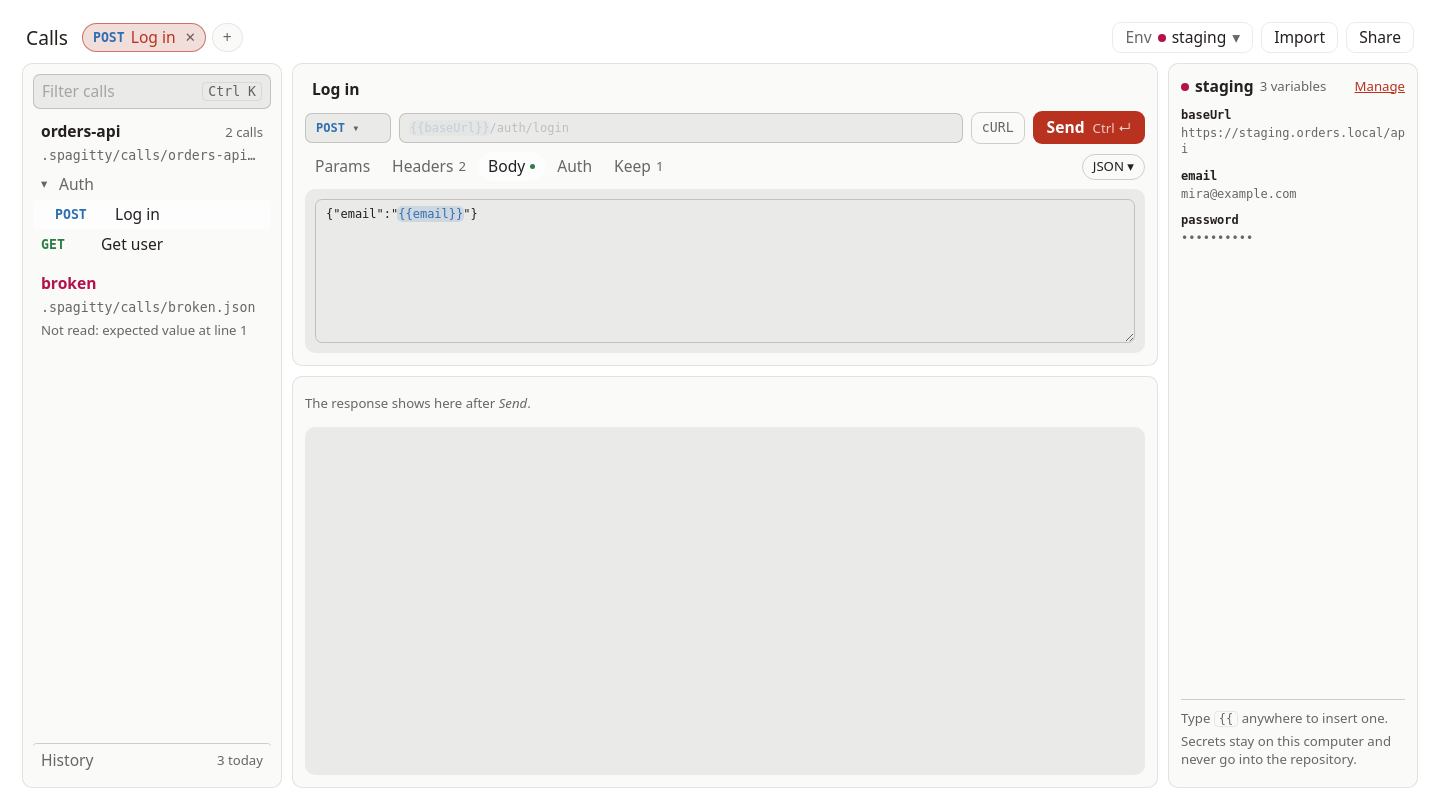
Calls › asks before sending in an environment that says to
The width and height of the screenshot is (1440, 810).
Step 1. Click the button "Send Ctrl ↵" → [1089, 128], box left=1033, top=111, right=1145, bottom=144
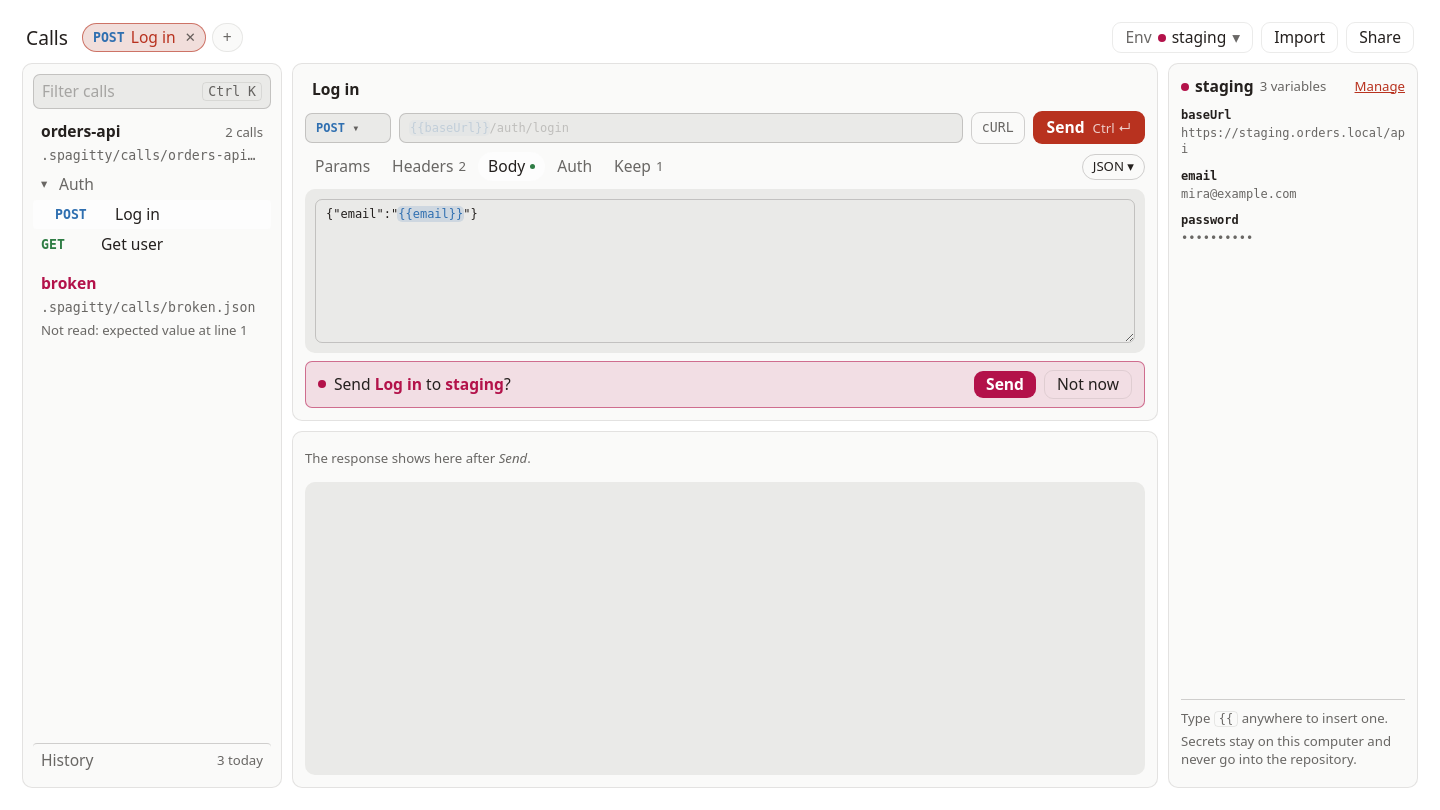
expect the dialog shows "Send Log in to staging?": met, box left=305, top=361, right=1145, bottom=408
Step 2. Click the button "Send" → [1005, 384], box left=974, top=371, right=1036, bottom=398
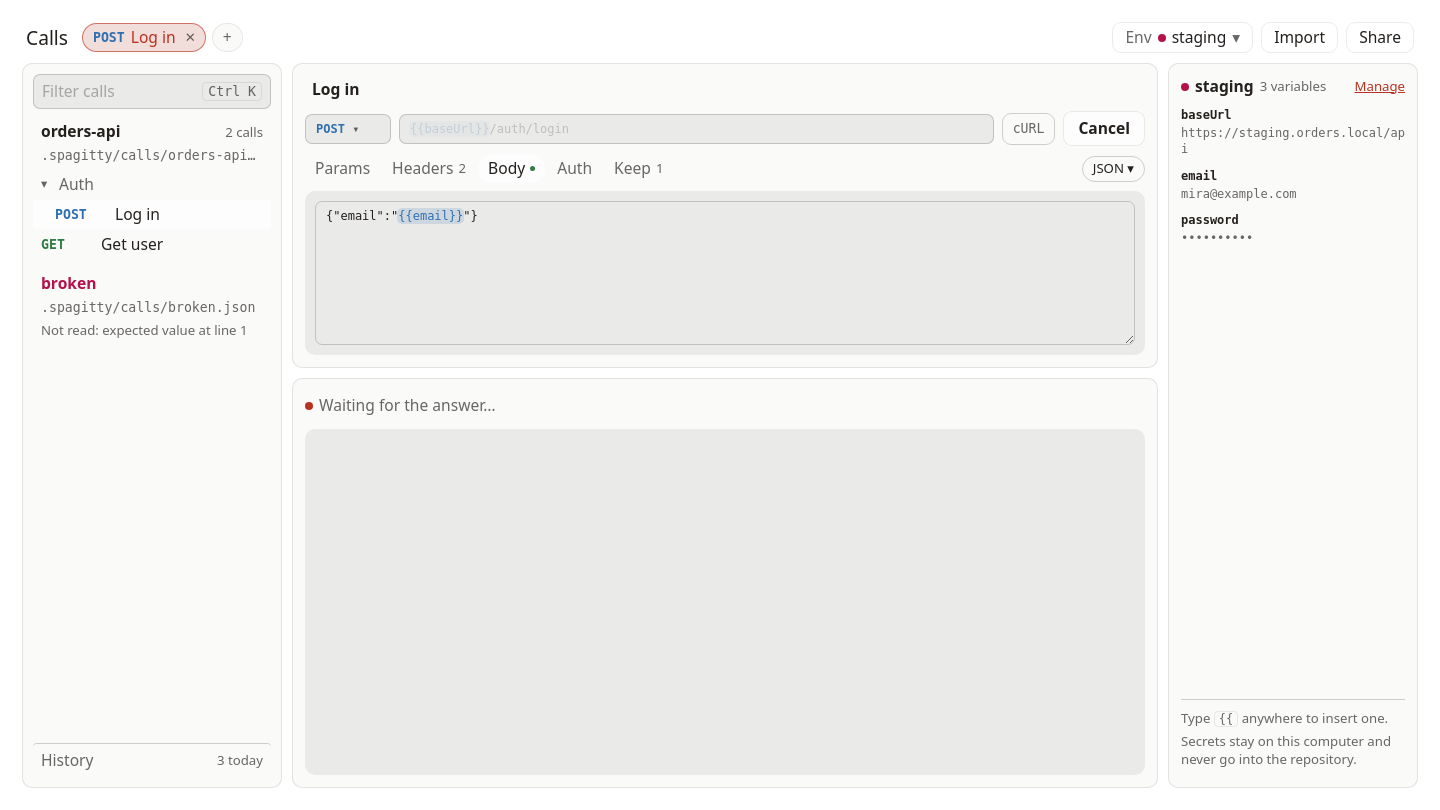
expect the dialog is gone: met
